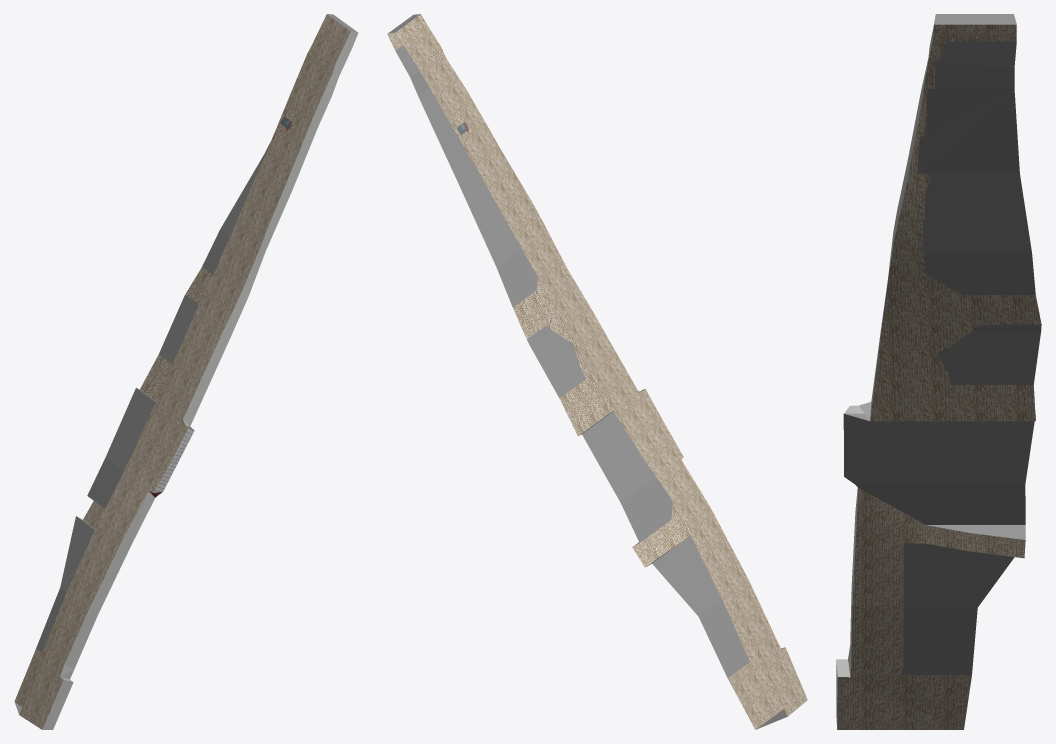
The model's file is Pikk_jalg_myyr_1-origo.obj.
3 renders of one model, left to right at view 1: azimuth 30°, elevation 25°; view 2: azimuth 150°, elevation 25°; view 3: azimuth 270°, elevation 25°, orthographic. The views are drawn at different scales.
Visible parts, largest first — view 1: Pikk_jalg_myyr_1; view 2: Pikk_jalg_myyr_1; view 3: Pikk_jalg_myyr_1.
Boxes of the visible parts, box(x1,y1,x2,y2) form: Pikk_jalg_myyr_1: box(14, 14, 358, 729); Pikk_jalg_myyr_1: box(387, 14, 807, 729); Pikk_jalg_myyr_1: box(836, 14, 1041, 729).
Bounding box in the file's own units: 64.44 × 106 × 20.06.
